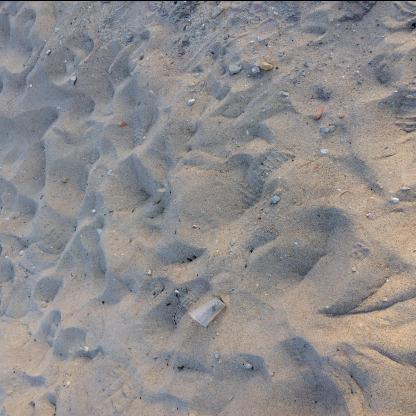plastik: (188, 296, 226, 326)
